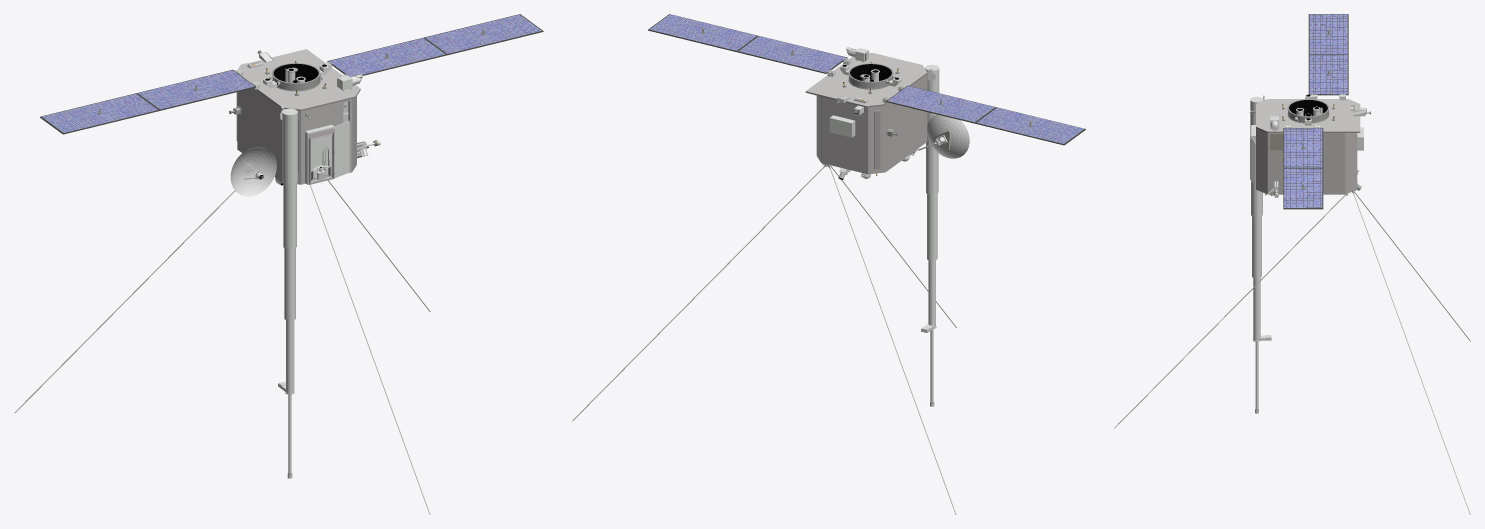
File: solar-terrestrial-relations-observatory-stereo.glb
The picture shows the model from 3 angles, left to right: view 1: azimuth 30°, elevation 25°; view 2: azimuth 150°, elevation 25°; view 3: azimuth 270°, elevation 25°; orthographic projection. The views are drawn at different scales.
Visible parts, largest first — view 1: Layer_0; view 2: Layer_0; view 3: Layer_0.
Boxes of the visible parts, <box> form: Layer_0: <box>14,14,543,514</box>; Layer_0: <box>572,14,1085,514</box>; Layer_0: <box>1114,14,1470,514</box>.
Bounding box in the file's own units: 3142 × 2425 × 2434.
2 materials, 2 textured.
